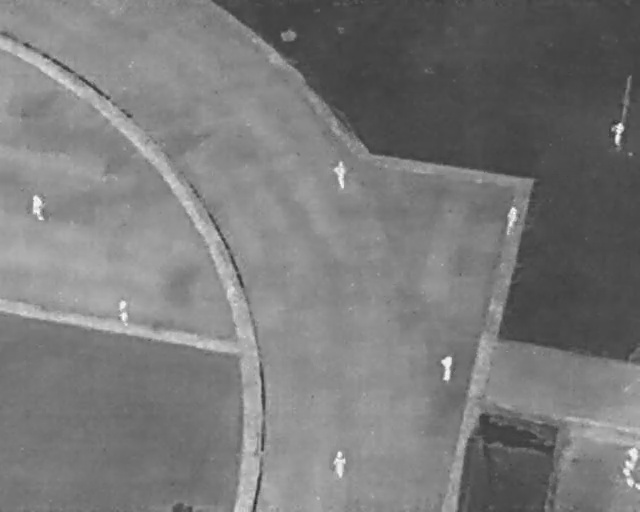DontCare: (618, 443, 640, 489)
Person: (113, 296, 133, 330), (331, 157, 351, 191), (502, 203, 519, 239), (29, 192, 46, 224), (330, 449, 348, 479), (610, 119, 625, 152), (439, 353, 454, 382)
